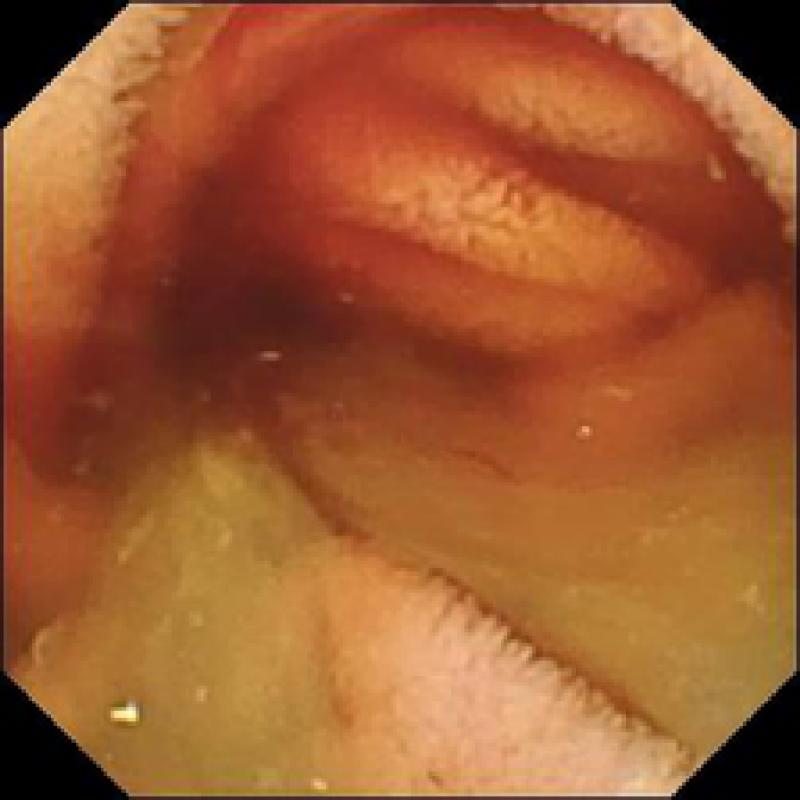bleeding: (0, 0, 789, 489)
